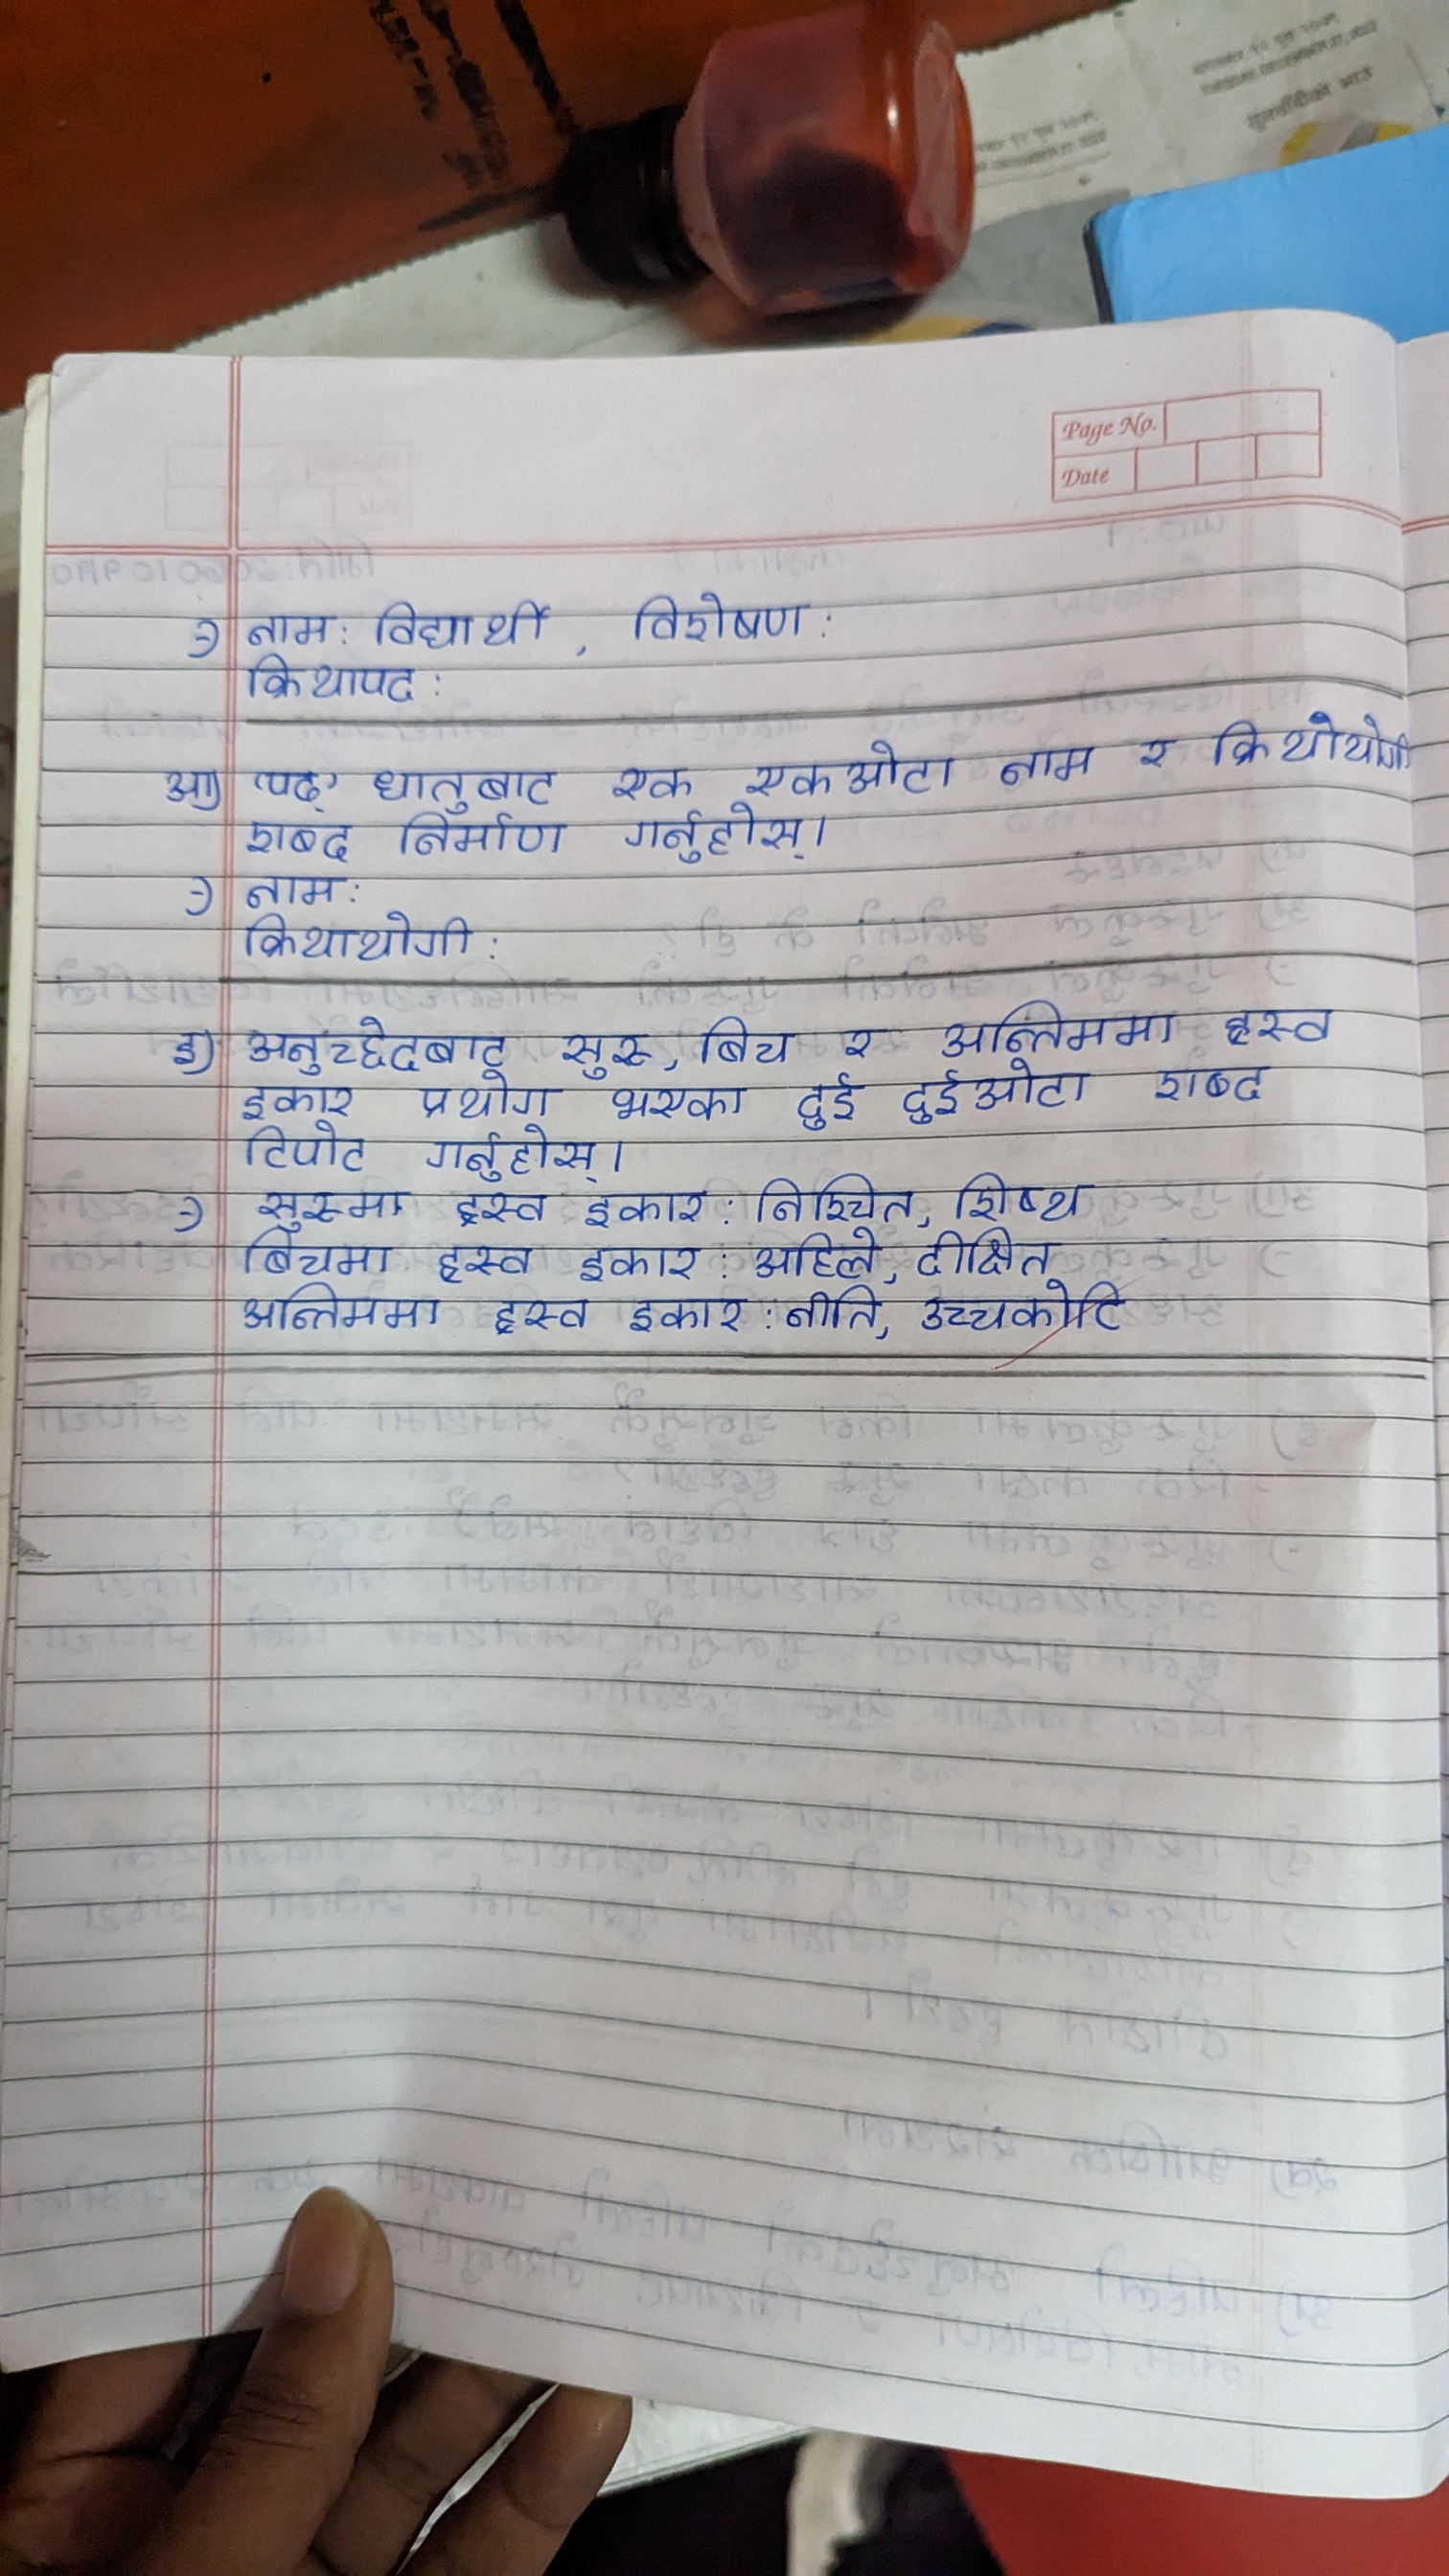text: (246, 1005, 510, 1072), (1203, 699, 1421, 773), (932, 991, 1175, 1051), (738, 732, 959, 798), (619, 807, 810, 872), (920, 1283, 1132, 1341), (241, 913, 478, 964), (623, 589, 809, 646), (421, 1125, 609, 1180), (239, 653, 418, 708), (373, 596, 548, 651), (232, 1284, 441, 1330), (370, 759, 556, 810), (743, 1171, 927, 1221), (387, 812, 573, 858), (947, 1169, 1095, 1223), (971, 1060, 1099, 1120), (239, 1230, 393, 1276), (911, 1231, 1060, 1277), (745, 1230, 885, 1277), (237, 1125, 372, 1173), (407, 1076, 563, 1116), (255, 1185, 405, 1226), (1215, 1001, 1339, 1049), (571, 1242, 708, 1284), (1146, 1065, 1274, 1109), (582, 1187, 708, 1231), (625, 1293, 743, 1339), (234, 1077, 354, 1120), (692, 1016, 791, 1065), (241, 821, 356, 863), (446, 1187, 548, 1233), (787, 1283, 876, 1336), (556, 1026, 655, 1072), (985, 745, 1100, 784), (494, 1293, 593, 1338), (248, 761, 329, 814), (437, 1240, 538, 1283), (609, 1088, 750, 1118), (603, 757, 692, 805), (789, 1070, 862, 1125), (246, 869, 341, 909), (241, 607, 331, 649), (166, 1019, 223, 1086), (899, 1070, 964, 1123), (154, 757, 216, 810), (1131, 731, 1178, 775), (835, 1019, 878, 1065)
